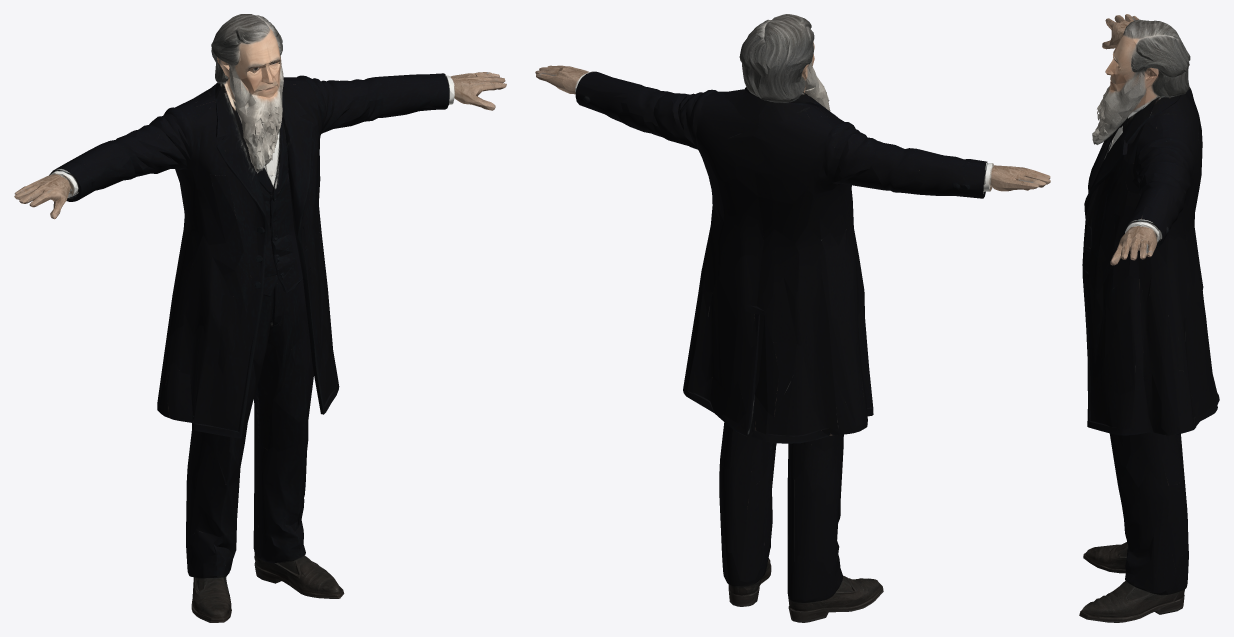
The model's file is brigham-young-10k.glb.
3 views of the same model, side by side, from view 1: azimuth 30°, elevation 25°; view 2: azimuth 150°, elevation 25°; view 3: azimuth 270°, elevation 25° (orthographic). The views are drawn at different scales.
Visible parts, largest first — view 1: output_unwrapped; view 2: output_unwrapped; view 3: output_unwrapped.
Boxes of the visible parts, x1,y1,x2,y2 form: output_unwrapped: [14, 14, 506, 622]; output_unwrapped: [535, 14, 1050, 622]; output_unwrapped: [1079, 14, 1219, 622].
Bounding box in the file's own units: 1.72 × 1.9 × 0.4252.
Materials: 1 (1 with a texture image).
